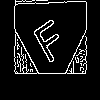F: (26, 9, 71, 65)
